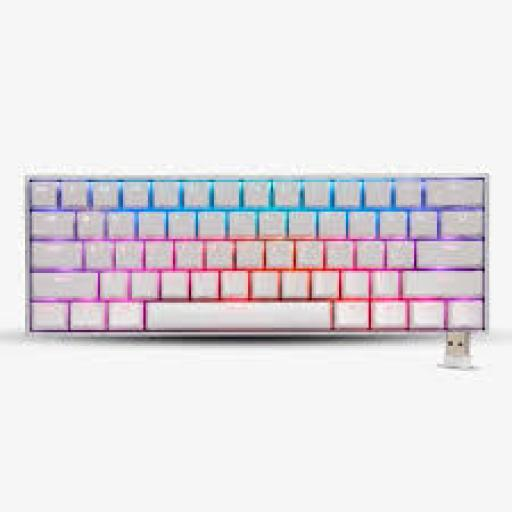KEYBOARD-2: (27, 175, 485, 330)
